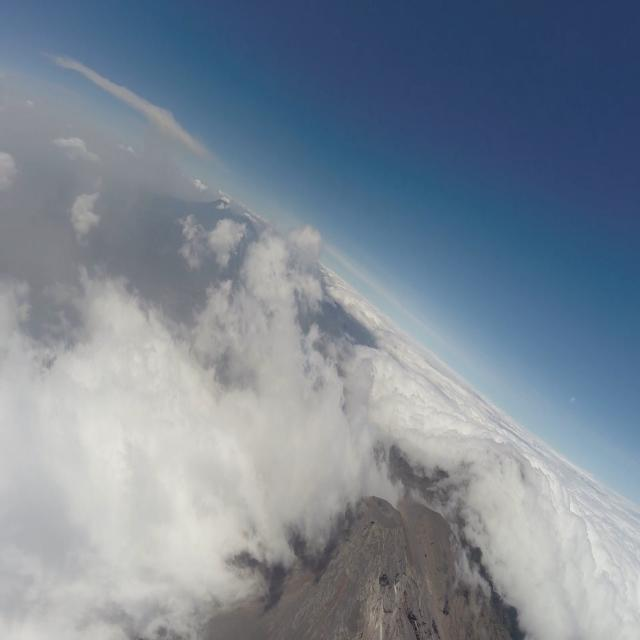Summit: (348, 491, 424, 640)
